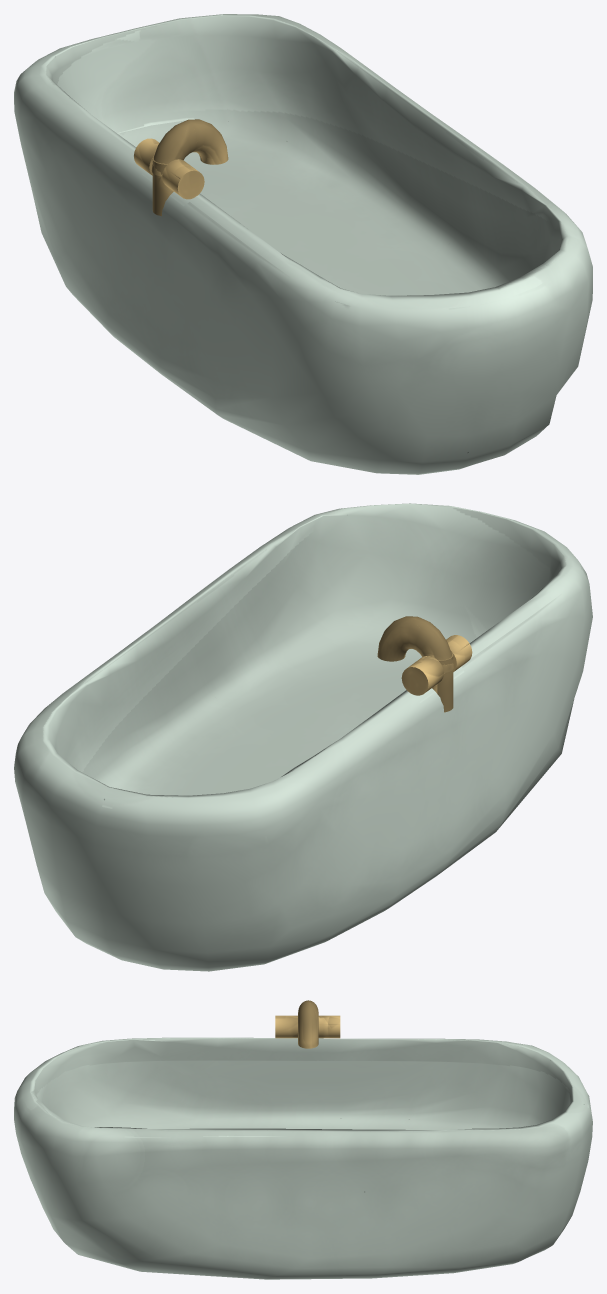
Rendered from bañeraaa.fbx.
3 views of the same model, one above another, from view 1: azimuth 30°, elevation 25°; view 2: azimuth 150°, elevation 25°; view 3: azimuth 270°, elevation 25° (orthographic). The views are drawn at different scales.
Parts seen in each view (by area): view 1: pCube3, pCylinder3; view 2: pCube3, pCylinder3; view 3: pCube3, pCylinder3.
Boxes of the visible parts, x1=… form: pCube3: x1=14, y1=14, x2=592, y2=474; pCylinder3: x1=134, y1=119, x2=228, y2=216; pCube3: x1=14, y1=503, x2=592, y2=971; pCylinder3: x1=377, y1=616, x2=472, y2=712; pCube3: x1=14, y1=1037, x2=592, y2=1279; pCylinder3: x1=275, y1=1000, x2=340, y2=1048.
Size of the model in its own units: 384 by 327 by 879.
